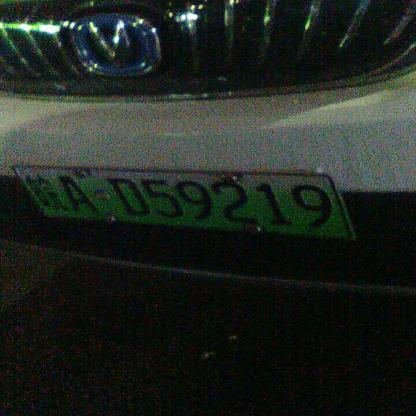lp: (12, 164, 44, 238)
